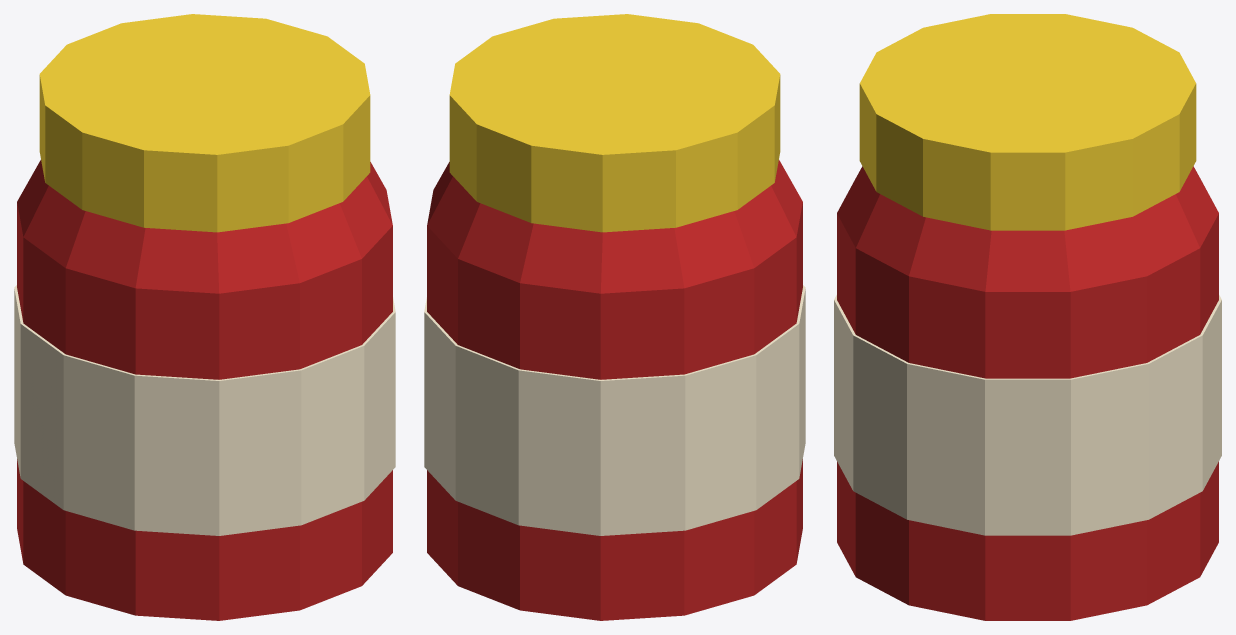
Rendered from Salca_Model.fbx.
3 renders of one model, left to right at view 1: azimuth 30°, elevation 25°; view 2: azimuth 150°, elevation 25°; view 3: azimuth 270°, elevation 25°, orthographic.
Visible parts, largest first — view 1: Salca_Model; view 2: Salca_Model; view 3: Salca_Model.
Boxes of the visible parts, x1,y1,x2,y2 form: Salca_Model: (14,14,395,620); Salca_Model: (424,14,805,620); Salca_Model: (834,14,1221,620).
Size of the model in its own units: 19.79 by 26.5 by 20.3.
